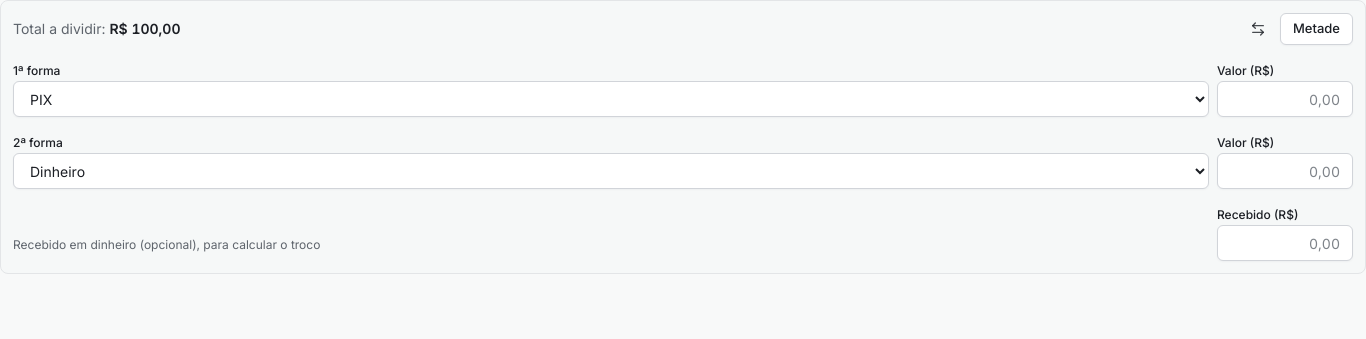
PagamentoDividido › preenche a outra parte com o restante ao digitar um valor
In the field with id "divisao-valor-1": (1285, 99) [1217,81,1353,117], type "60"
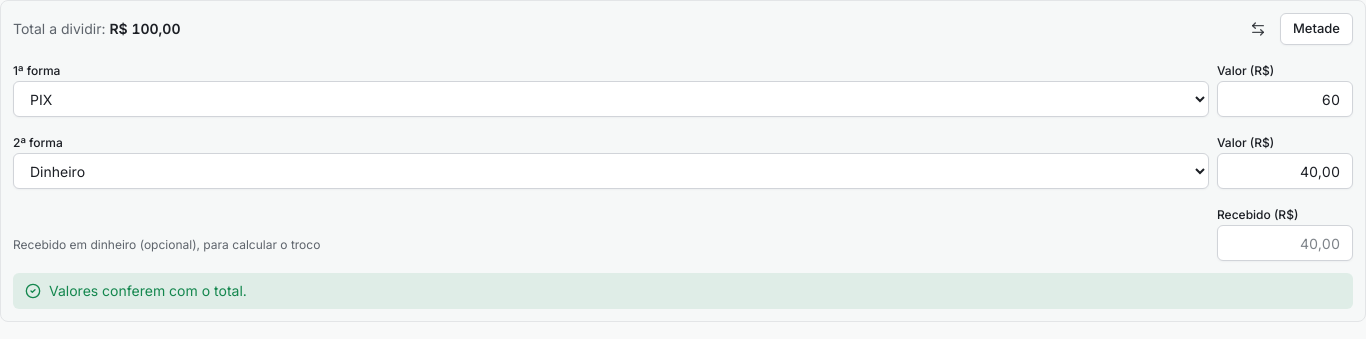
Now the field with id "divisao-valor-2" holds "40,00", box [1217,153,1353,189]
Now the message reads "Valores conferem com o total.", box [49,282,247,299]
